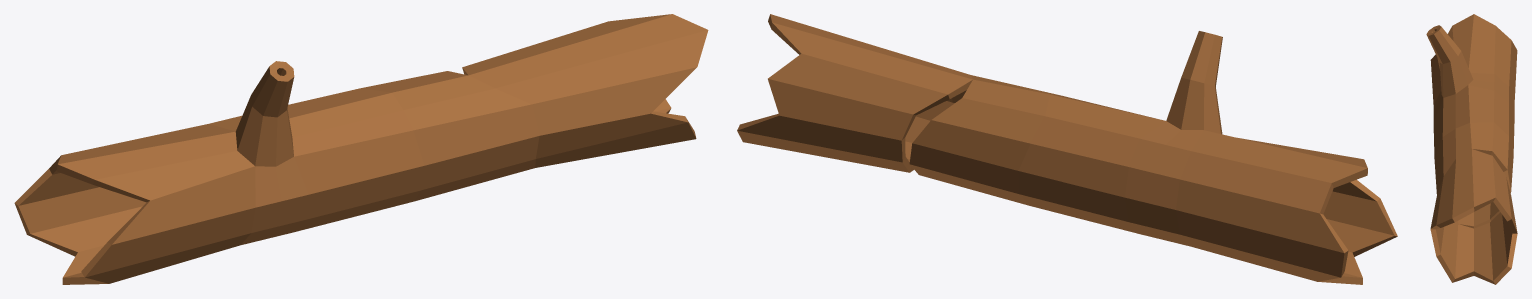
Rendered from Tronco.fbx.
3 views of the same model, side by side, from view 1: azimuth 30°, elevation 25°; view 2: azimuth 150°, elevation 25°; view 3: azimuth 270°, elevation 25° (orthographic). The views are drawn at different scales.
Parts seen in each view (by area): view 1: Cylinder; view 2: Cylinder; view 3: Cylinder.
Boxes of the visible parts, x1,y1,x2,y2 form: Cylinder: (14, 14, 708, 284); Cylinder: (737, 14, 1397, 284); Cylinder: (1426, 14, 1517, 284).
Bounding box in the file's own units: 144 × 41.99 × 27.35.
